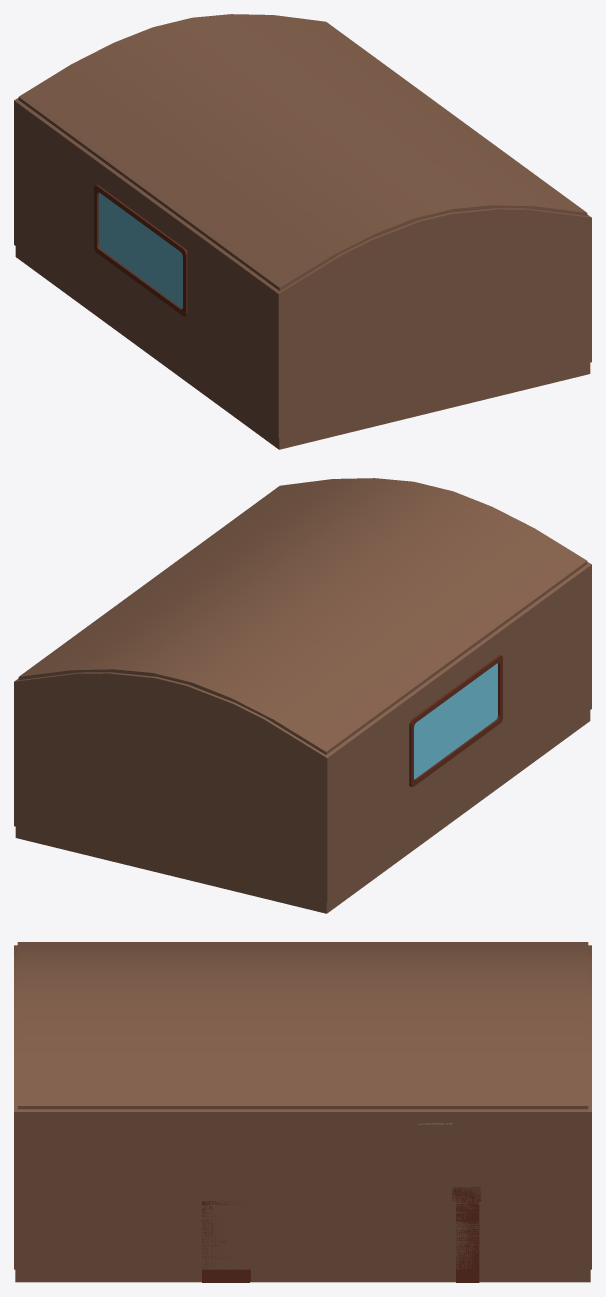
Rendered from StolTrav,MasterStoika,BottlesWithStickers,Boiler,Tumba_Boiler,Vagon.fbx.
3 renders of one model, top to bottom at view 1: azimuth 30°, elevation 25°; view 2: azimuth 150°, elevation 25°; view 3: azimuth 270°, elevation 25°, orthographic. The views are drawn at different scales.
Visible parts, largest first — view 1: Vagon; view 2: Vagon; view 3: Vagon, MasterTable, StandForTitan.
Part boxes in pixels (x1=…): Vagon: x1=14, y1=14, x2=591, y2=449; Vagon: x1=14, y1=478, x2=591, y2=913; Vagon: x1=14, y1=942, x2=591, y2=1282; MasterTable: x1=452, y1=1187, x2=481, y2=1282; StandForTitan: x1=202, y1=1201, x2=250, y2=1282.
Bounding box in the file's own units: 412 × 247 × 600.
